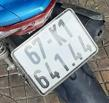1: (55, 16, 77, 41), (52, 48, 73, 74)
4: (41, 57, 64, 84), (65, 38, 86, 64), (75, 31, 95, 56)
6: (20, 41, 43, 68), (29, 67, 52, 91)
7: (30, 35, 50, 61)
K: (44, 21, 68, 49)
